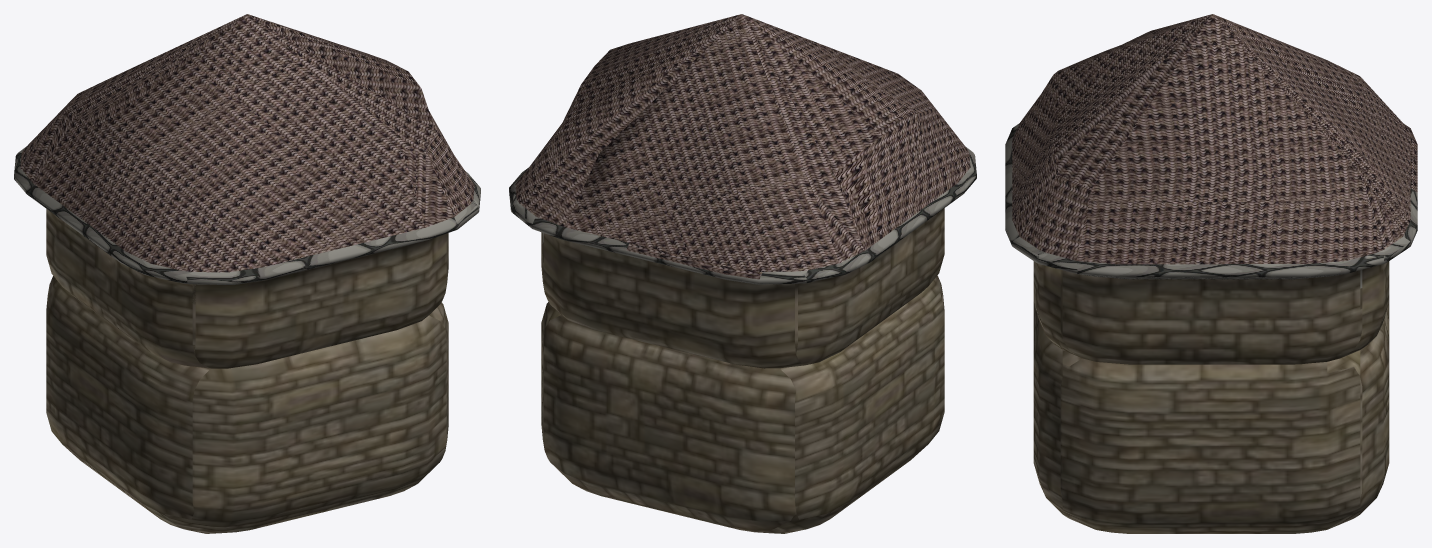
The picture shows the model from 3 angles, left to right: view 1: azimuth 30°, elevation 25°; view 2: azimuth 150°, elevation 25°; view 3: azimuth 270°, elevation 25°; orthographic projection. The views are drawn at different scales.
Parts seen in each view (by area): view 1: Mball.000, Mball.001; view 2: Mball.000, Mball.001; view 3: Mball.000, Mball.001.
Part boxes in pixels (x1=…): Mball.000: x1=14, y1=14, x2=480, y2=368; Mball.001: x1=46, y1=276, x2=448, y2=533; Mball.000: x1=509, y1=14, x2=976, y2=368; Mball.001: x1=541, y1=275, x2=944, y2=533; Mball.000: x1=1005, y1=14, x2=1417, y2=364; Mball.001: x1=1033, y1=302, x2=1389, y2=533.
Size of the model in its own units: 4.99 by 6.33 by 4.99.
3 materials, 3 textured.
